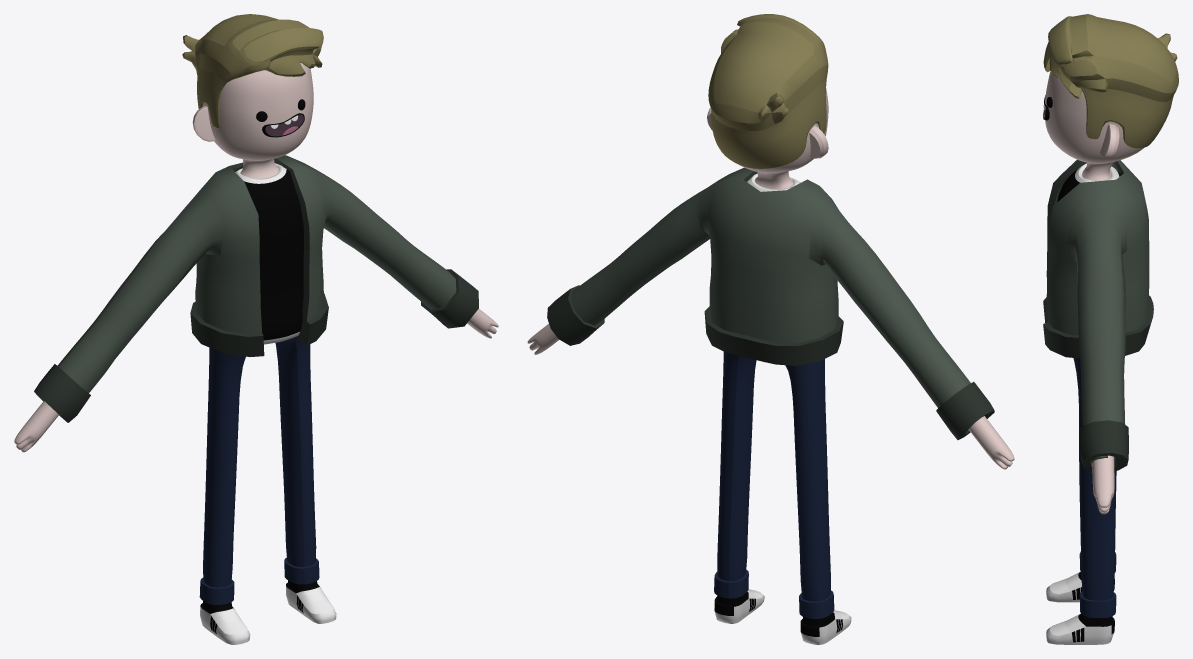
Rendered from RyleyFBX.fbx.
3 renders of one model, left to right at view 1: azimuth 30°, elevation 25°; view 2: azimuth 150°, elevation 25°; view 3: azimuth 270°, elevation 25°, orthographic.
Parts seen in each view (by area): view 1: Mesh_Ryley; view 2: Mesh_Ryley; view 3: Mesh_Ryley.
Part boxes in pixels (box(x1,y1,x2,y2)): Mesh_Ryley: box(14, 14, 498, 644); Mesh_Ryley: box(527, 14, 1014, 644); Mesh_Ryley: box(1043, 14, 1178, 644).
Size of the model in its own units: 6.15 by 7.27 by 1.49.
